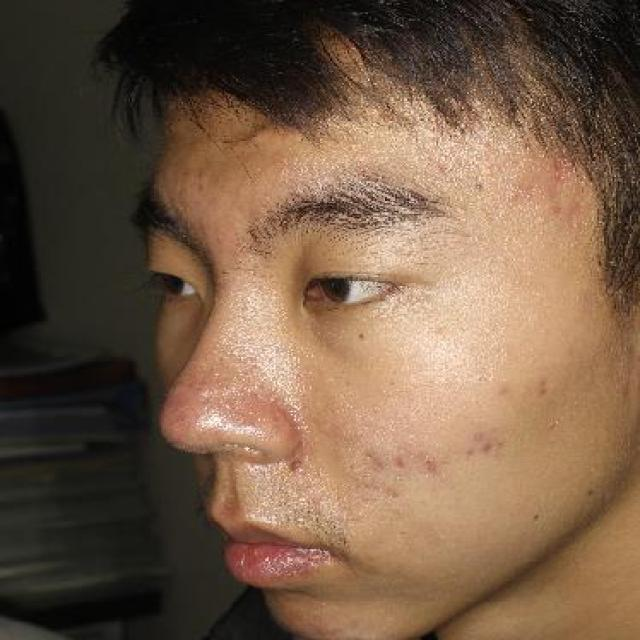dark spot: (466, 423, 508, 460), (532, 364, 558, 404), (417, 448, 445, 482), (388, 451, 409, 475), (493, 382, 515, 402)
nodules: (214, 121, 289, 154)
